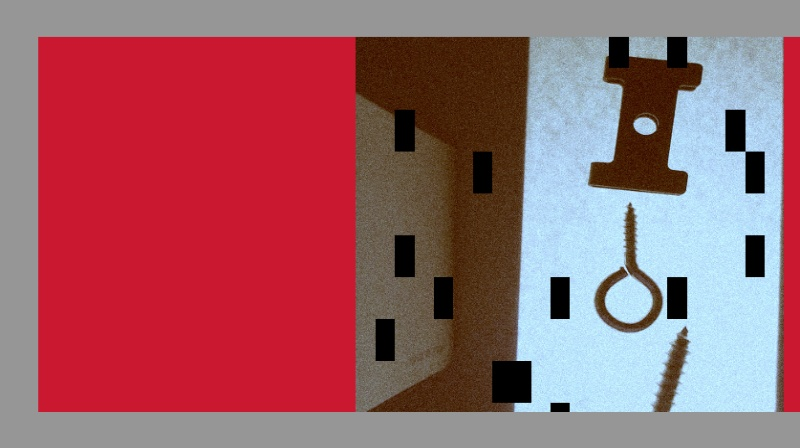O001: (594, 201, 662, 333)
O002: (587, 53, 703, 195)
S001: (617, 326, 690, 447)
